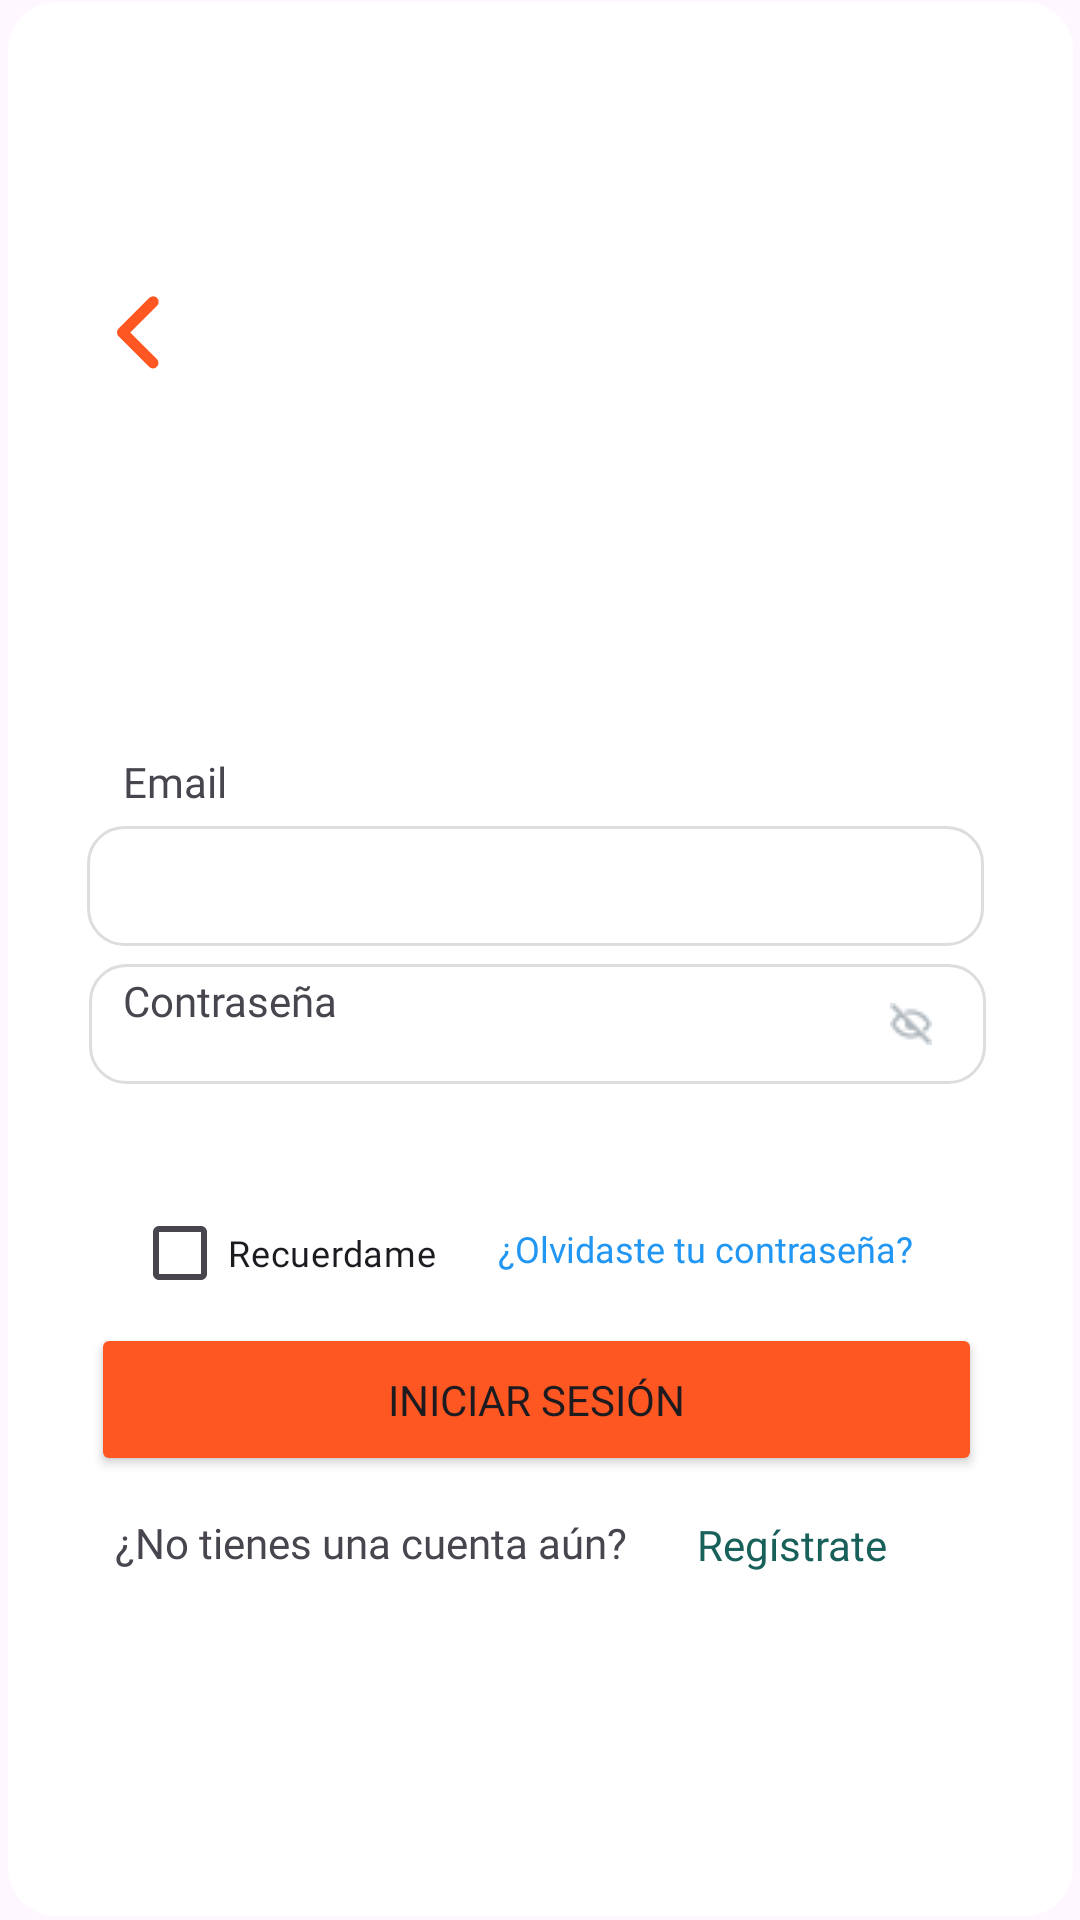

Locate icon controls on the screen. Image size 1080×1920, boxes as (x1, y1, x2, y2).
flecha atras: (117, 296, 159, 369)
